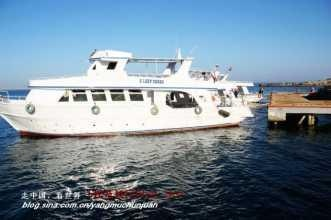yacht: (1, 46, 257, 135)
